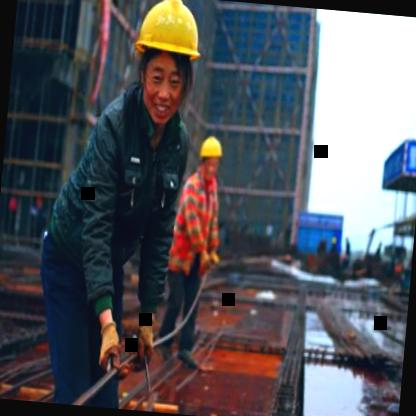helmet: (123, 0, 212, 135), (197, 131, 224, 180)
